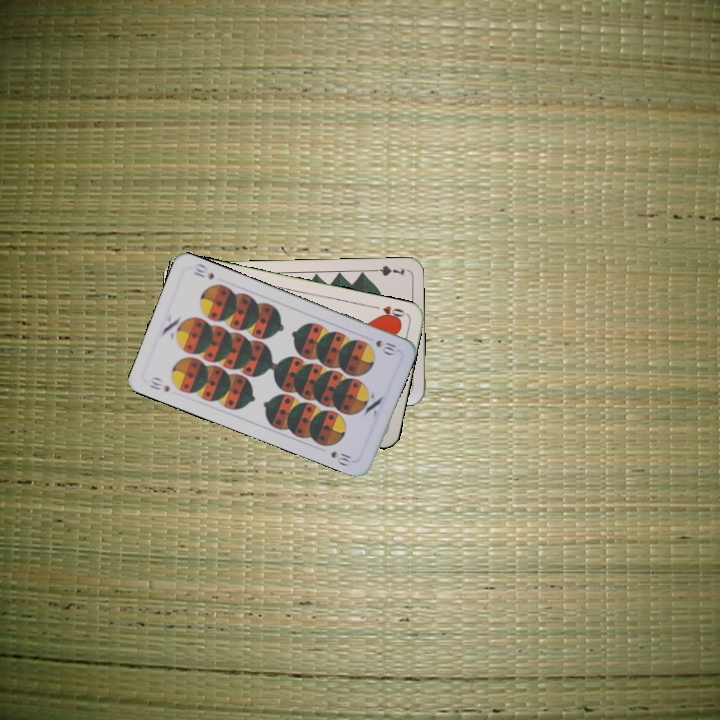G7: (367, 261, 407, 278)
HO: (368, 301, 409, 323)
S10: (371, 336, 399, 357), (146, 377, 172, 395)
